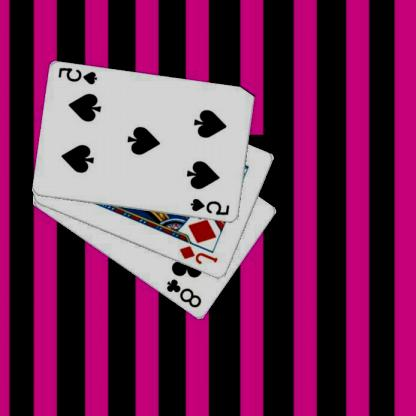5S: (58, 65, 100, 86), (190, 197, 233, 217)
8C: (165, 276, 205, 310)
JD: (178, 244, 221, 266)
